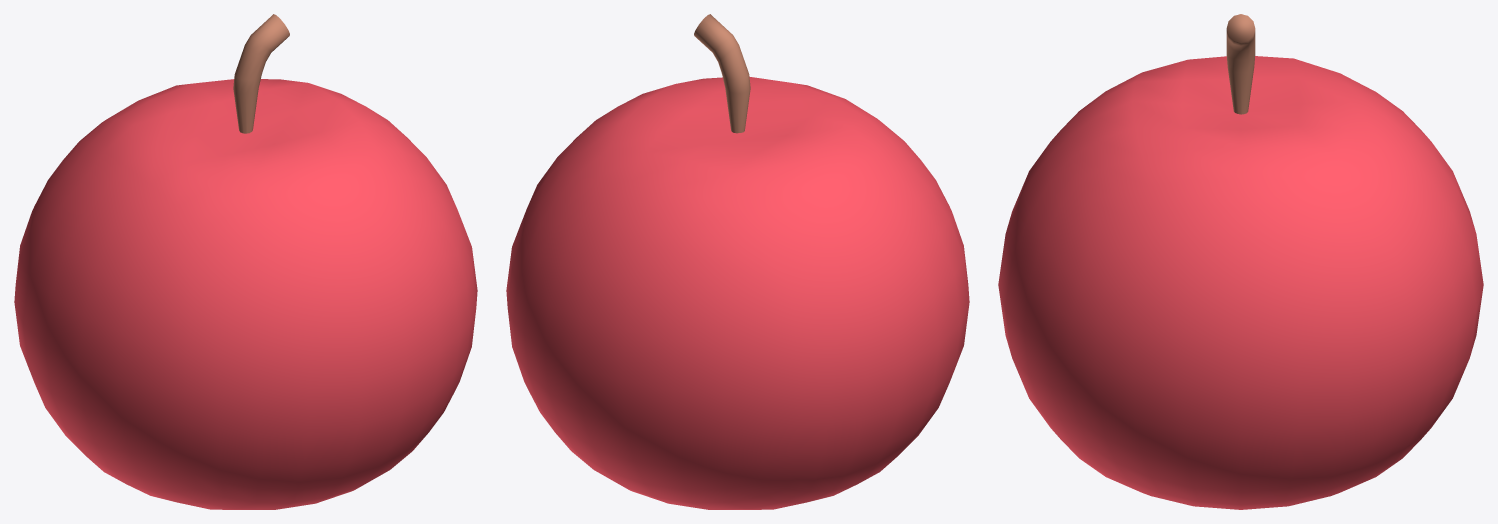
The model's file is Apple.fbx.
The picture shows the model from 3 angles, left to right: view 1: azimuth 30°, elevation 25°; view 2: azimuth 150°, elevation 25°; view 3: azimuth 270°, elevation 25°; orthographic projection. The views are drawn at different scales.
Parts seen in each view (by area): view 1: Cube.002; view 2: Cube.002; view 3: Cube.002.
Part boxes in pixels (x1,y1,x2,y2): Cube.002: (14,14,477,509); Cube.002: (506,14,969,509); Cube.002: (998,14,1483,509).
Bounding box in the file's own units: 0.228 × 0.2427 × 0.228.
